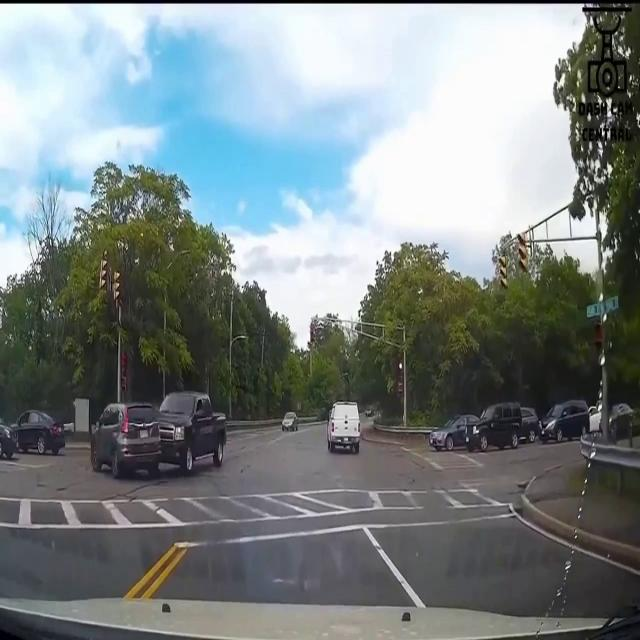accident: (90, 387, 228, 480)
